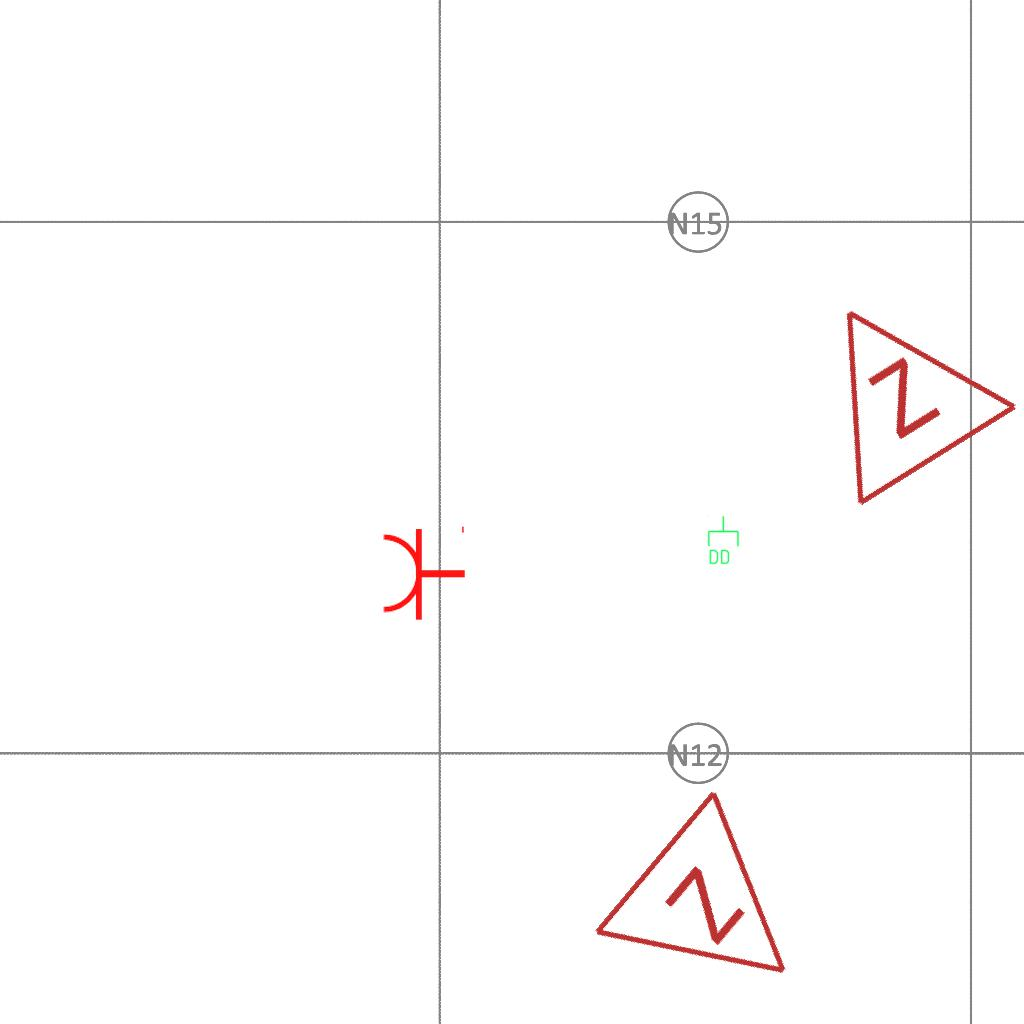Datenanschluss_zweifach: (706, 515, 740, 566)
Schukosteckdose_einfach: (380, 522, 467, 622)
Zimmersignalleuchte: (755, 249, 1024, 523), (580, 774, 860, 1024)
